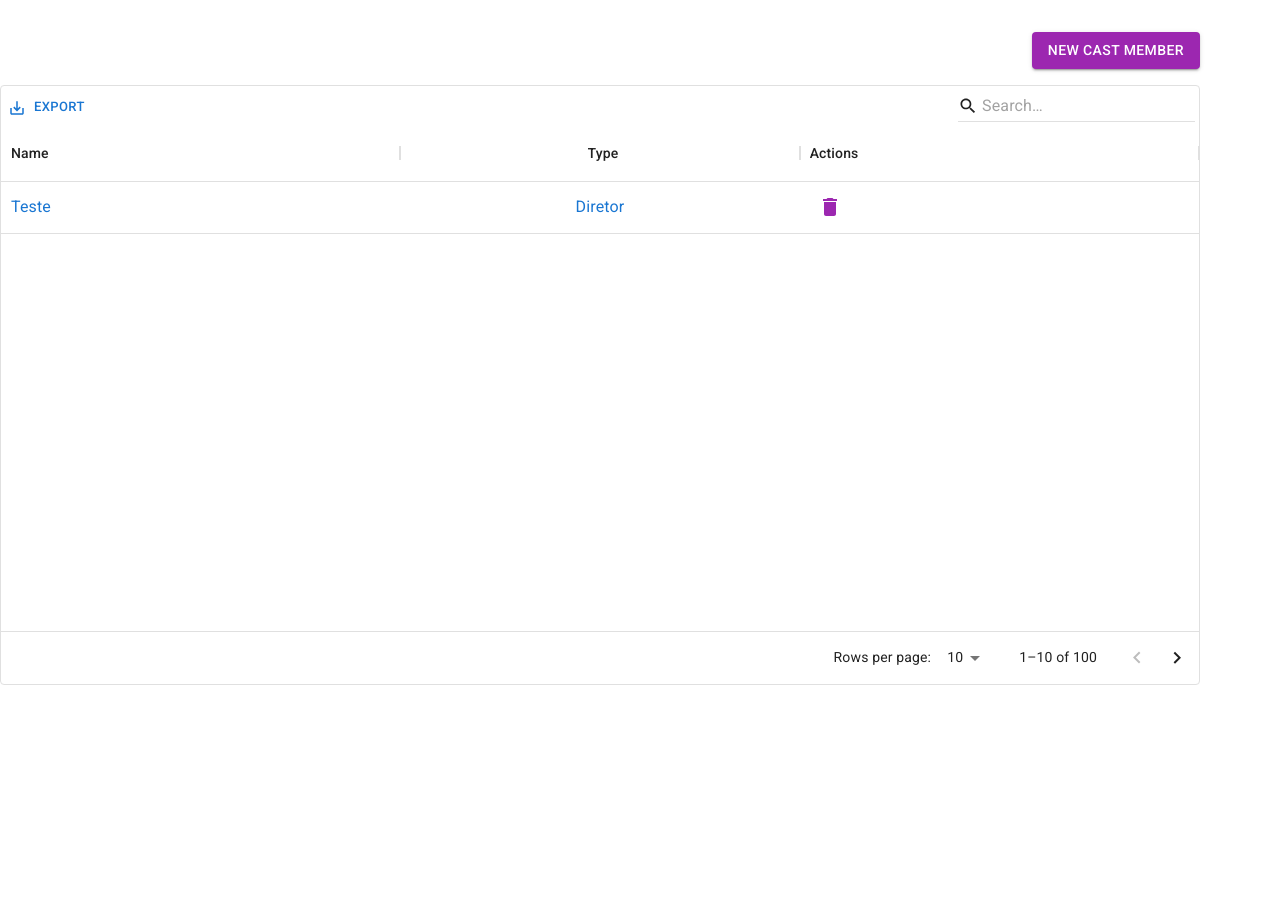
Test: ListCastMembers › should handle On PageChange
This screenshot has width=1280, height=900.
Expected: the text "Teste" is shown, [11,195,51,219]
What coordinates should you click on to do the following:
click the button named "next page"
I would click on:
 (1177, 658)
Its box is [1157,638,1197,678].
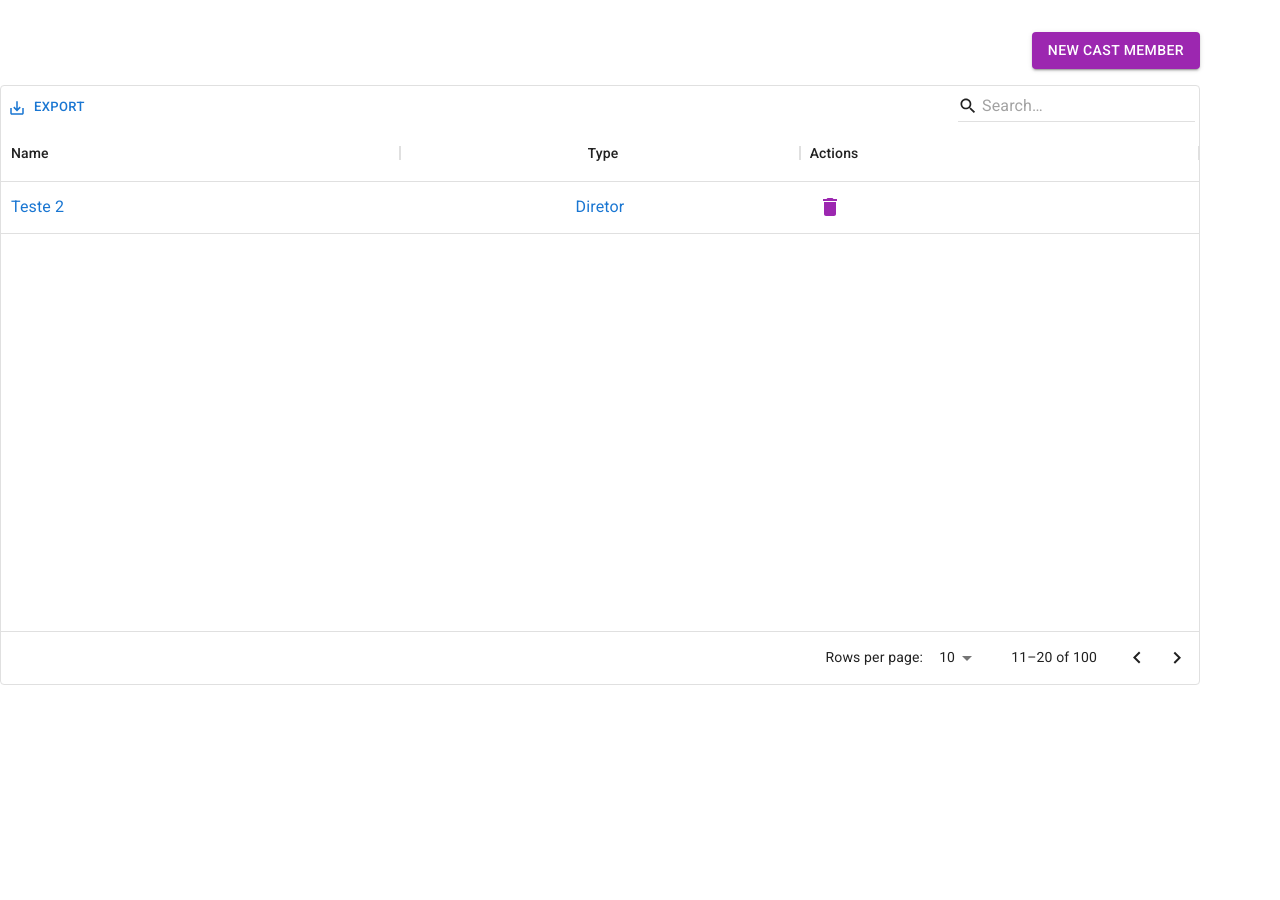
Now the text "Teste 2" is shown, box [11,195,64,219]
